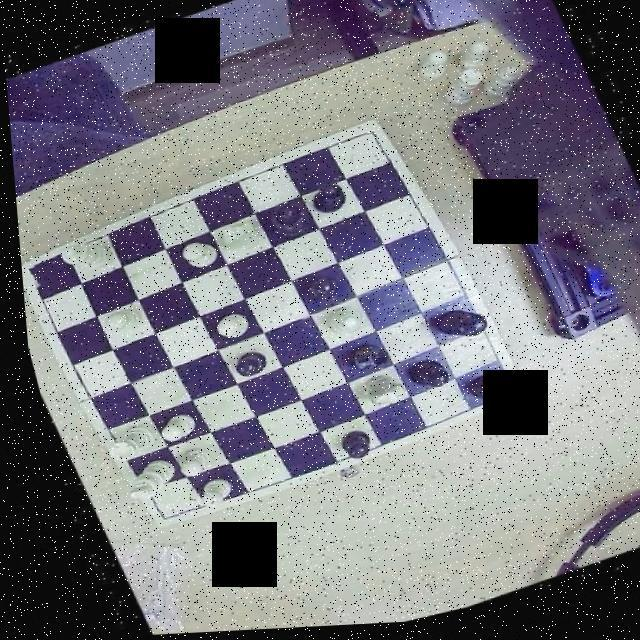chess-table-corners: (345, 122, 388, 164), (476, 370, 516, 410), (16, 251, 50, 288), (139, 496, 174, 528)
